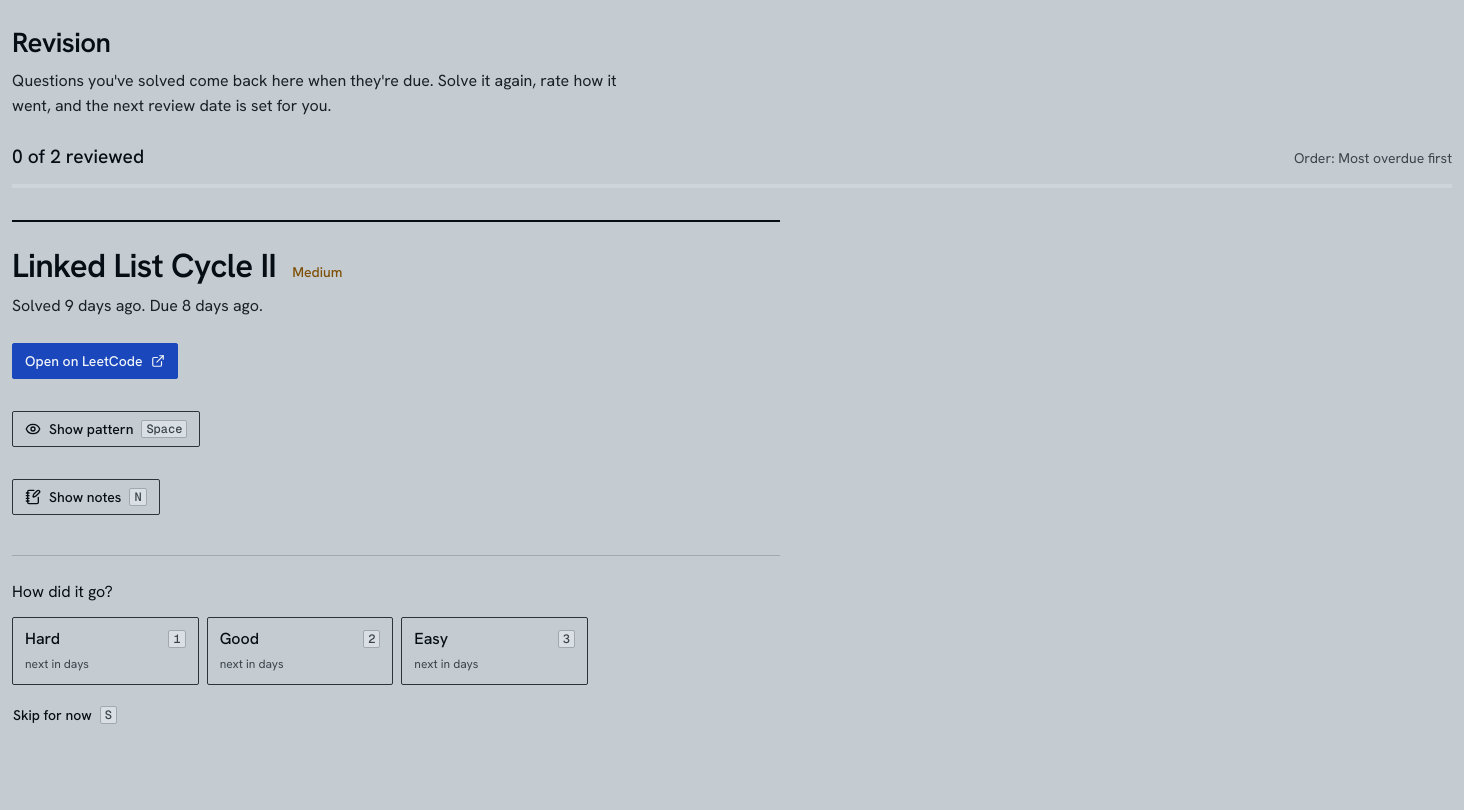
Test: RevisionView › hides a saved note until it is revealed
Expected: the text "Floyd's tortoise and hare" is not shown
Click the button "Show notes N".
click(86, 497)  # box [12, 479, 160, 515]
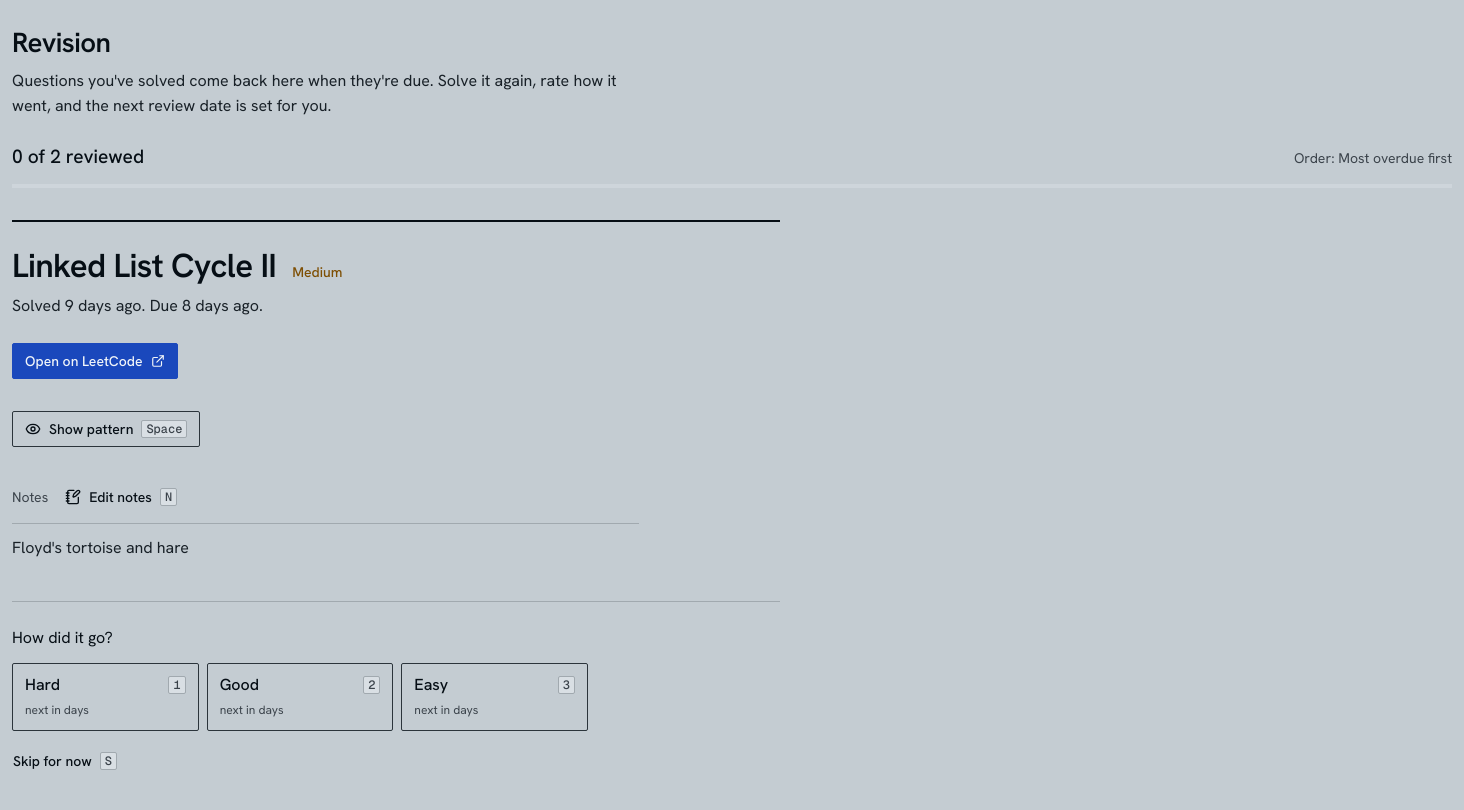
Expected: the text "Floyd's tortoise and hare" is shown, [12, 537, 189, 558]
Expected: the button "Edit notes N" is shown, [52, 479, 190, 515]
